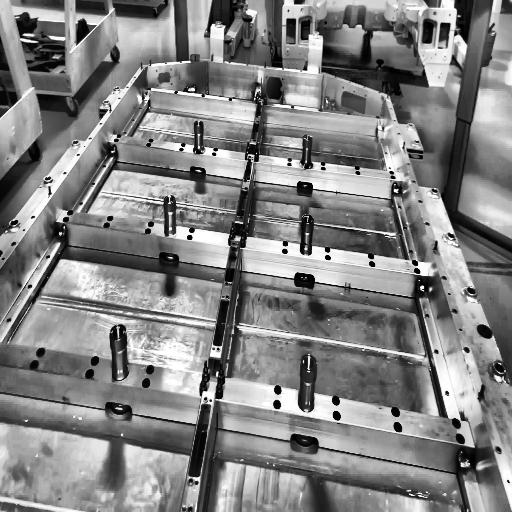b_casing: (1, 56, 512, 512)
